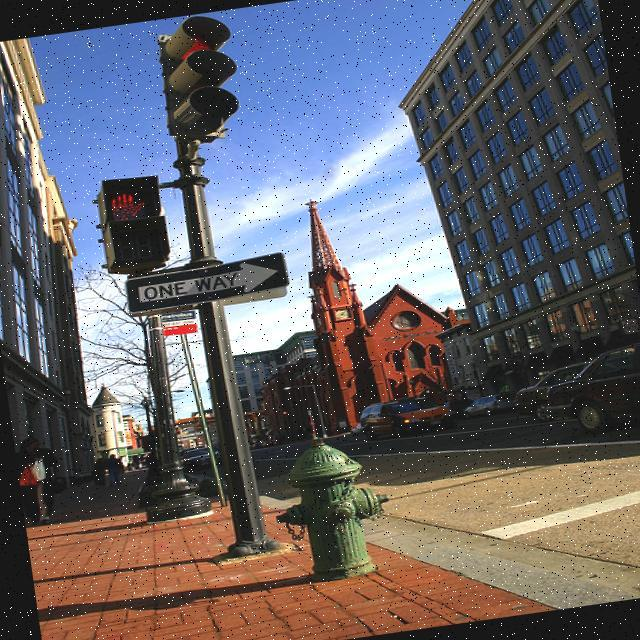fire_hydrant: (264, 429, 398, 587)
